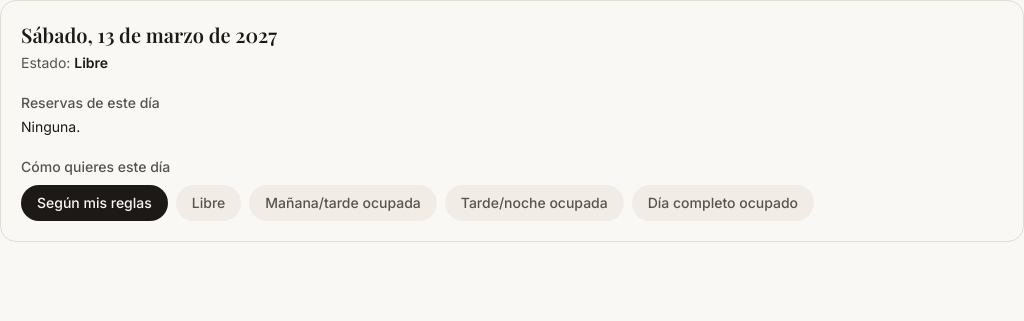
Test: DayDetail › si al guardar falla el backend, muestra su mensaje
Click the button "Día completo ocupado": (723, 203) top-left (632, 185), bottom-right (814, 221)
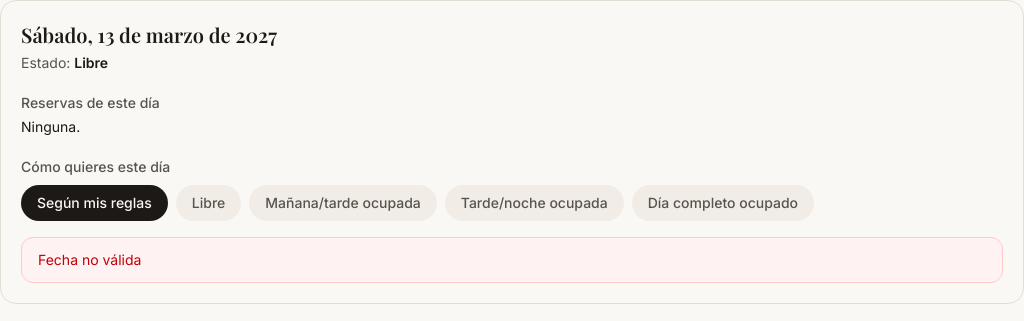
Expected: the message reads "Fecha no válida", top-left (38, 251), bottom-right (141, 268)
